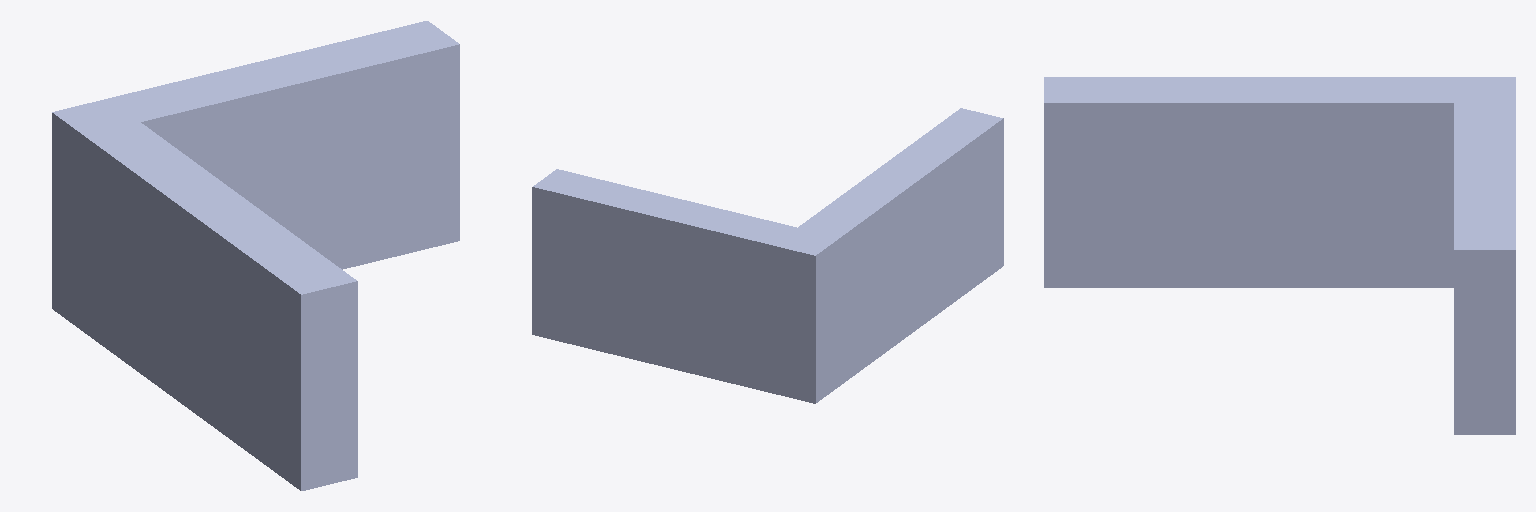
The robot description file, URDF, robot "Assem11.SLDASM":
<?xml version="1.0" encoding="utf-8"?>
<!-- This URDF was automatically created by SolidWorks to URDF Exporter! Originally created by [author] ([email redacted]) 
     Commit Version: 1.6.1-10-g22cb778-dirty  Build Version: 1.6.9106.26689
     For more information, please see http://wiki.ros.org/sw_urdf_exporter -->
<robot
  name="Assem11.SLDASM">
  <link
    name="base_link">
    <inertial>
      <origin
        xyz="-0.075 0.25 -0.5"
        rpy="0 0 0" />
      <mass
        value="75" />
      <inertia
        ixx="7.8125"
        ixy="0"
        ixz="1.80360985842885E-16"
        iyy="6.390625"
        iyz="1.72215956130097E-17"
        izz="1.703125" />
    </inertial>
    <visual>
      <origin
        xyz="0 0 0"
        rpy="0 0 0" />
      <geometry>
        <mesh
          filename="package://Assem11.SLDASM/meshes/base_link.STL" />
      </geometry>
      <material
        name="">
        <color
          rgba="0.792156862745098 0.819607843137255 0.933333333333333 1" />
      </material>
    </visual>
    <collision>
      <origin
        xyz="0 0 0"
        rpy="0 0 0" />
      <geometry>
        <mesh
          filename="package://Assem11.SLDASM/meshes/base_link.STL" />
      </geometry>
    </collision>
  </link>
  <link
    name="Empty_Link">
    <inertial>
      <origin
        xyz="-0.0750000000000017 0.25 -0.5"
        rpy="0 0 0" />
      <mass
        value="75" />
      <inertia
        ixx="7.81249999999999"
        ixy="-1.20370621524202E-32"
        ixz="-2.14566534056829E-14"
        iyy="6.390625"
        iyz="1.7221595613009E-17"
        izz="1.703125" />
    </inertial>
    <visual>
      <origin
        xyz="0 0 0"
        rpy="0 0 0" />
      <geometry>
        <mesh
          filename="package://Assem11.SLDASM/meshes/Empty_Link.STL" />
      </geometry>
      <material
        name="">
        <color
          rgba="0.792156862745098 0.819607843137255 0.933333333333333 1" />
      </material>
    </visual>
    <collision>
      <origin
        xyz="0 0 0"
        rpy="0 0 0" />
      <geometry>
        <mesh
          filename="package://Assem11.SLDASM/meshes/Empty_Link.STL" />
      </geometry>
    </collision>
  </link>
  <joint
    name="1"
    type="fixed">
    <origin
      xyz="0.849999999999996 1.15 0"
      rpy="1.5707963267949 0 1.5707963267949" />
    <parent
      link="base_link" />
    <child
      link="Empty_Link" />
    <axis
      xyz="0 0 0" />
  </joint>
  <link
    name="Empty_Link_2">
    <inertial>
      <origin
        xyz="-0.0750000000000017 0.25 -0.5"
        rpy="0 0 0" />
      <mass
        value="75" />
      <inertia
        ixx="7.81249999999999"
        ixy="-1.20370621524202E-32"
        ixz="-2.14566534056829E-14"
        iyy="6.390625"
        iyz="1.7221595613009E-17"
        izz="1.703125" />
    </inertial>
    <visual>
      <origin
        xyz="0 0 0"
        rpy="0 0 0" />
      <geometry>
        <mesh
          filename="package://Assem11.SLDASM/meshes/Empty_Link_2.STL" />
      </geometry>
      <material
        name="">
        <color
          rgba="0.792156862745098 0.819607843137255 0.933333333333333 1" />
      </material>
    </visual>
    <collision>
      <origin
        xyz="0 0 0"
        rpy="0 0 0" />
      <geometry>
        <mesh
          filename="package://Assem11.SLDASM/meshes/Empty_Link_2.STL" />
      </geometry>
    </collision>
  </link>
  <joint
    name="2"
    type="fixed">
    <origin
      xyz="0 0 0"
      rpy="0 0 0" />
    <parent
      link="Empty_Link" />
    <child
      link="Empty_Link_2" />
    <axis
      xyz="0 0 0" />
  </joint>
</robot>

--- What the picture shows (computed from the rendered views, not written in the file) ---
3 views of the same robot in one strip: view 1: azimuth 30°, elevation 25°; view 2: azimuth 150°, elevation 25°; view 3: azimuth 270°, elevation 25° (orthographic).
Robot: Assem11.SLDASM — 3 links, 2 joints (2 fixed); root link base_link; default pose: all joints at 0.
Visible links, largest first — view 1: base_link, Empty_Link; view 2: Empty_Link, base_link; view 3: base_link, Empty_Link.
Link boxes in pixels (bbox=[...]): base_link: bbox=[84, 122, 357, 490]; Empty_Link: bbox=[52, 21, 459, 331]; Empty_Link: bbox=[532, 169, 839, 403]; base_link: bbox=[798, 108, 1003, 385]; base_link: bbox=[1044, 77, 1453, 287]; Empty_Link: bbox=[1454, 77, 1515, 434].
Size in the robot's own frame: 1 by 1.15 by 0.5 metres.
2 mesh visuals loaded from 3 distinct referenced files (2 binary STL); not drawn: 1 (reference not matched to a file when rendering).
